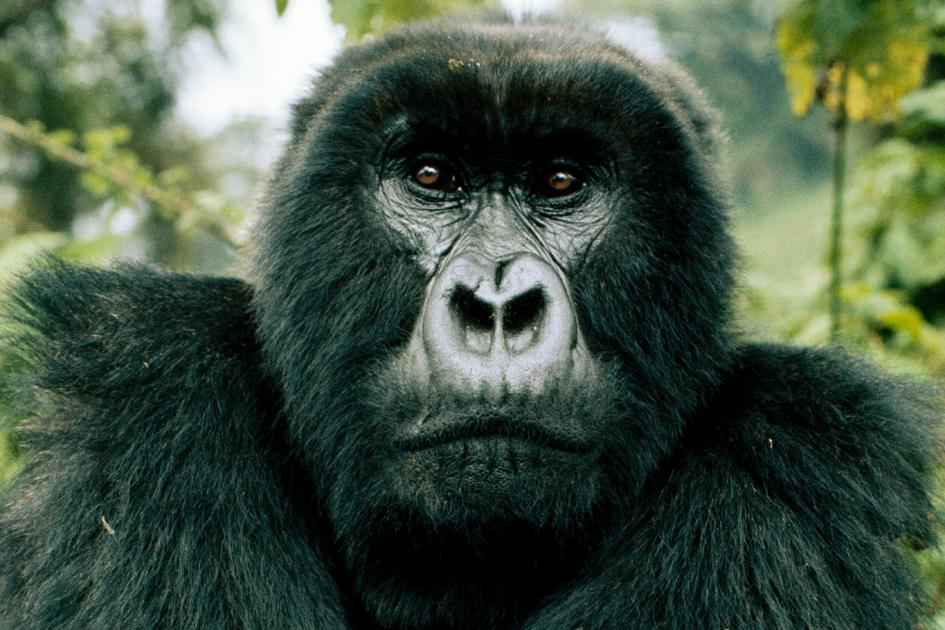Goriila: (54, 25, 881, 630)
